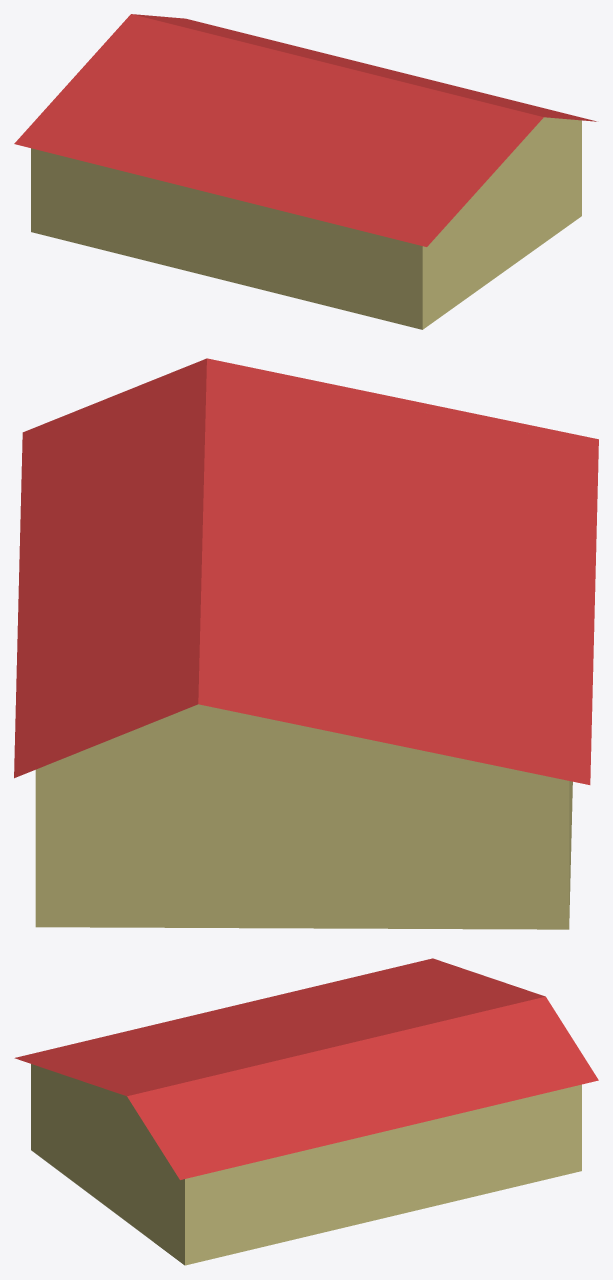
The picture shows the model from 3 angles, top to bottom: view 1: azimuth 30°, elevation 25°; view 2: azimuth 150°, elevation 25°; view 3: azimuth 270°, elevation 25°; orthographic projection. The views are drawn at different scales.
Bounding box in the file's own units: 42.33 × 46.64 × 12.02.
